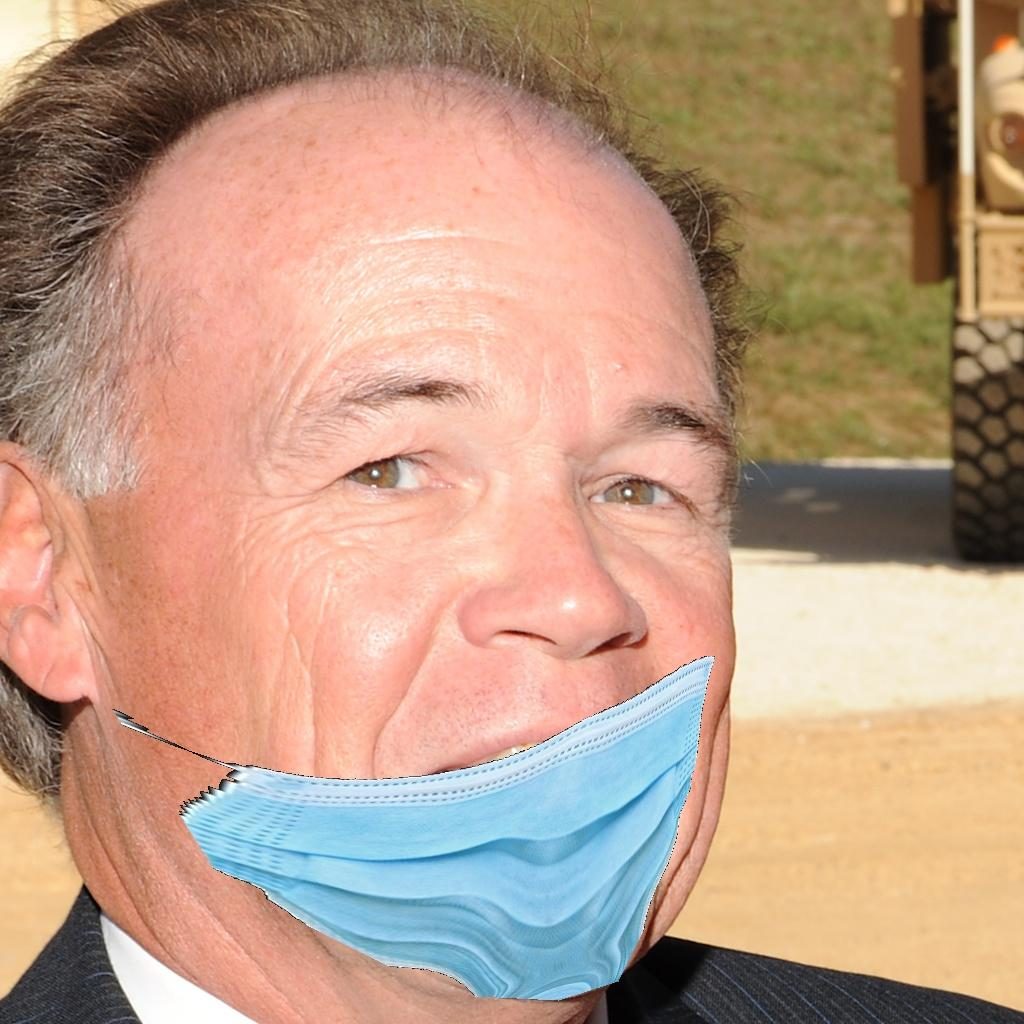Máscara Incorreta: (185, 253, 758, 976)
